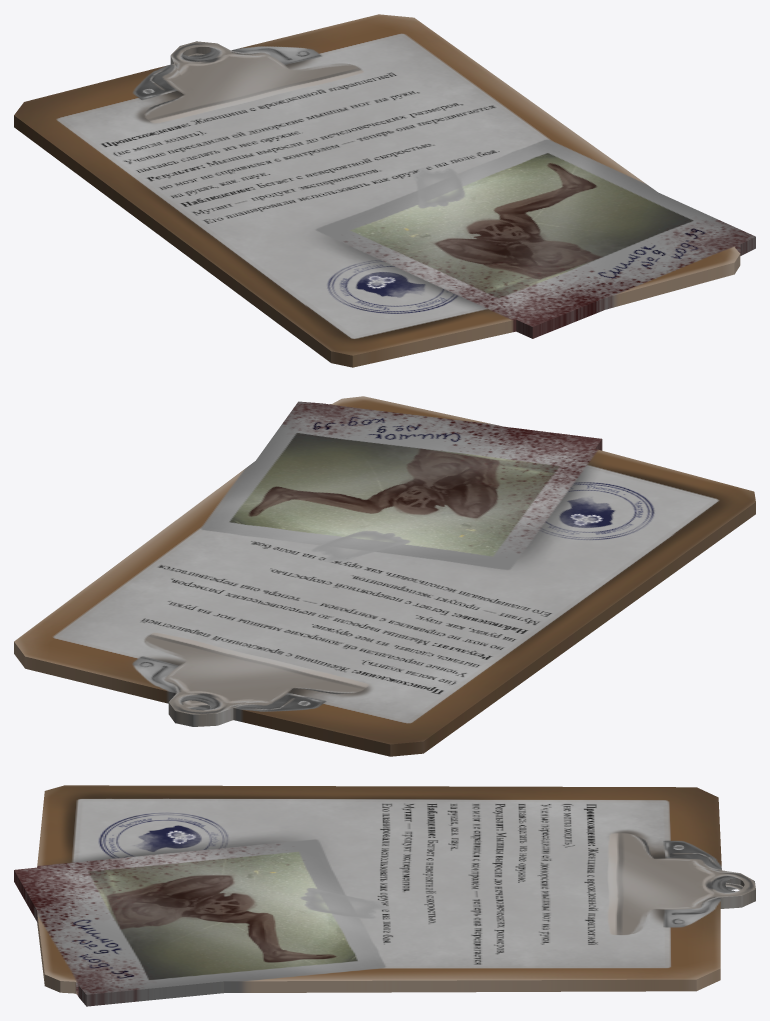
Rendered from Archive_5_lvl.fbx.
3 views of the same model, one above another, from view 1: azimuth 30°, elevation 25°; view 2: azimuth 150°, elevation 25°; view 3: azimuth 270°, elevation 25° (orthographic). The views are drawn at different scales.
Parts seen in each view (by area): view 1: Archive_5_lvl; view 2: Archive_5_lvl; view 3: Archive_5_lvl.
Boxes of the visible parts, bbox=[...] form: Archive_5_lvl: bbox=[14, 14, 755, 367]; Archive_5_lvl: bbox=[14, 396, 755, 756]; Archive_5_lvl: bbox=[14, 785, 755, 1006].
Size of the model in its own units: 80.28 by 2.1 by 120.
